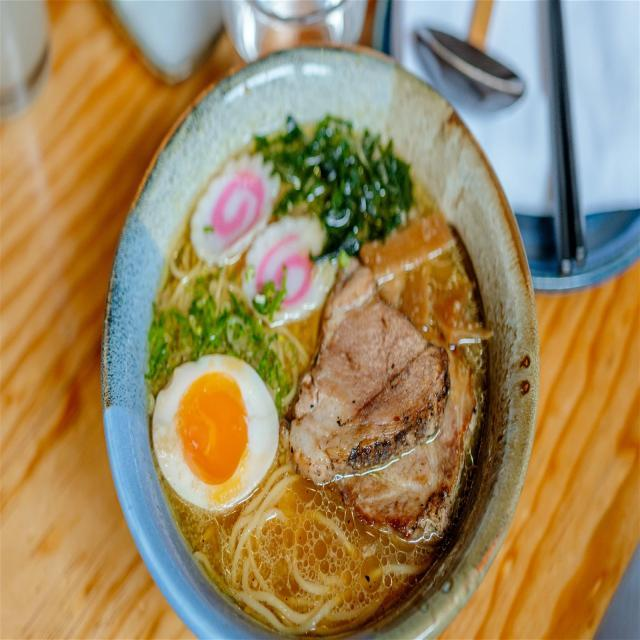cac loai rau cu: (264, 118, 433, 253), (359, 219, 491, 337), (156, 266, 297, 367)
mi misoramen: (146, 104, 517, 632)
naruto: (186, 151, 299, 274), (244, 209, 347, 328)
soi mi miso: (237, 504, 369, 630)
thit heo: (288, 269, 452, 467), (351, 339, 490, 556)
trung: (153, 356, 295, 514)
